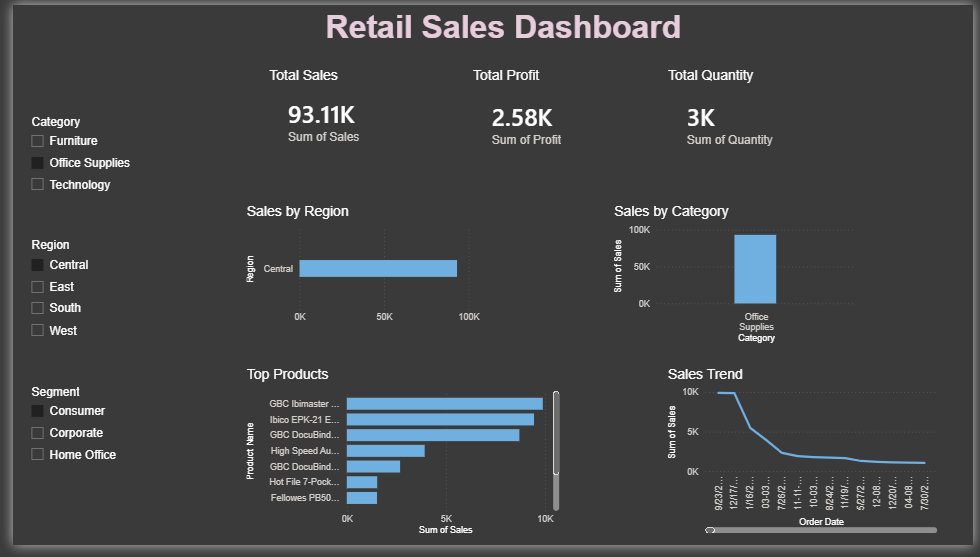

This screenshot's page, from the dashboard's own definition file:
{"tool":"powerbi","page":{"name":"Page 1","canvas":[1280,720],"ordinal":0},"visuals":[{"type":"cardVisual","title":"Total Sales","fields":{"Data":["Sum(Sample_ Superstore.Sales)"]},"box":[336.2,83.7,182.5,120.8],"z":0},{"type":"cardVisual","title":"Total Profit","fields":{"Data":["Sum(Sample_ Superstore.Profit)"]},"box":[607.9,83.7,193.5,126.2],"z":1000},{"type":"cardVisual","title":"Total Quantity","fields":{"Data":["Sum(Sample_ Superstore.Quantity)"]},"box":[868.6,83.7,185.2,127.6],"z":2000},{"type":"clusteredColumnChart","title":" Sales by Category","fields":{"Category":["Sample_ Superstore.Category"],"Y":["Sum(Sample_ Superstore.Sales)"]},"box":[795.9,264.8,332.1,190.7],"z":3000},{"type":"clusteredBarChart","title":"Sales by Region","fields":{"Category":["Sample_ Superstore.Region"],"Y":["Sum(Sample_ Superstore.Sales)"]},"box":[306,264.8,321.1,167.4],"z":4000},{"type":"lineChart","title":"Sales Trend","fields":{"Category":["Sample_ Superstore.Order Date Hierarchy.Order Date"],"Y":["Sum(Sample_ Superstore.Sales)"]},"box":[795.9,484.4,369.1,227.8],"z":5000},{"type":"clusteredBarChart","title":" Top Products","fields":{"Category":["Sample_ Superstore.Product Name"],"Y":["Sum(Sample_ Superstore.Sales)"]},"box":[306,481.6,426.8,230.5],"z":6000},{"type":"textbox","box":[365,0,577.7,71.4],"z":7000},{"type":"slicer","fields":{"Values":["Sample_ Superstore.Region"]},"box":[11,307.4,122.1,153.7],"z":8000},{"type":"slicer","fields":{"Values":["Sample_ Superstore.Category"]},"box":[11,141.3,157.8,122.1],"z":9000},{"type":"slicer","fields":{"Values":["Sample_ Superstore.Segment"]},"box":[11,500.9,138.6,126.2],"z":10000}]}

Visuals, with their boxes in screenshot pixels (x1, y1, x2, y2), scaled from the page's 1280x720 canvas onto the 980x557 screenshot:
"Total Sales" cardVisual: 257:65:397:158
"Total Profit" cardVisual: 465:65:614:162
"Total Quantity" cardVisual: 665:65:807:163
" Sales by Category" clusteredColumnChart: 609:205:864:352
"Sales by Region" clusteredBarChart: 234:205:480:334
"Sales Trend" lineChart: 609:375:892:551
" Top Products" clusteredBarChart: 234:373:561:551
textbox: 279:0:722:55
slicer - Sample_ Superstore.Region: 8:238:102:357
slicer - Sample_ Superstore.Category: 8:109:129:204
slicer - Sample_ Superstore.Segment: 8:388:115:485
